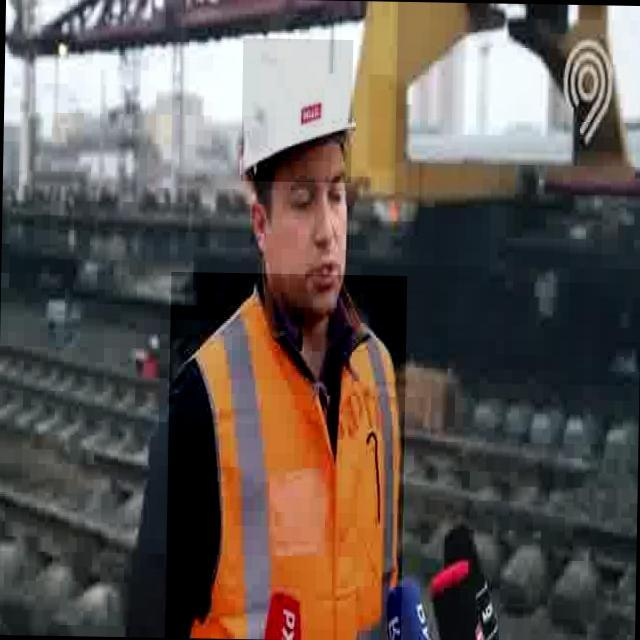Helmet: (240, 38, 353, 183)
Safety Vest: (164, 271, 406, 640)
